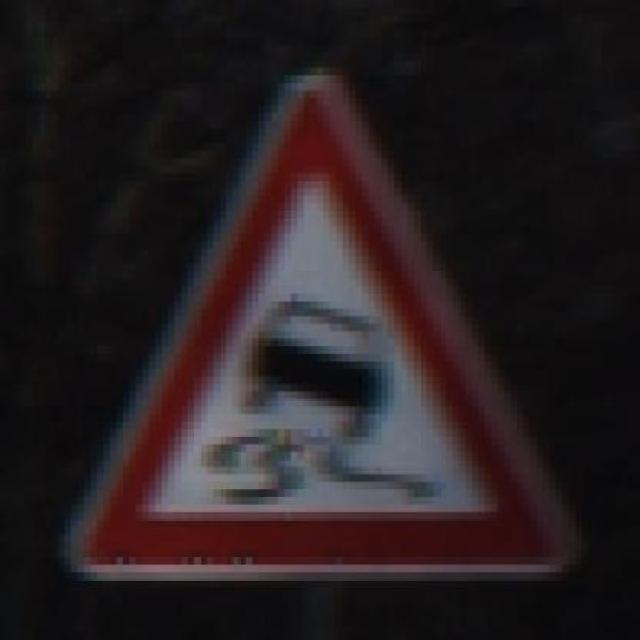Slippery Road Ahead: (45, 60, 582, 595)
